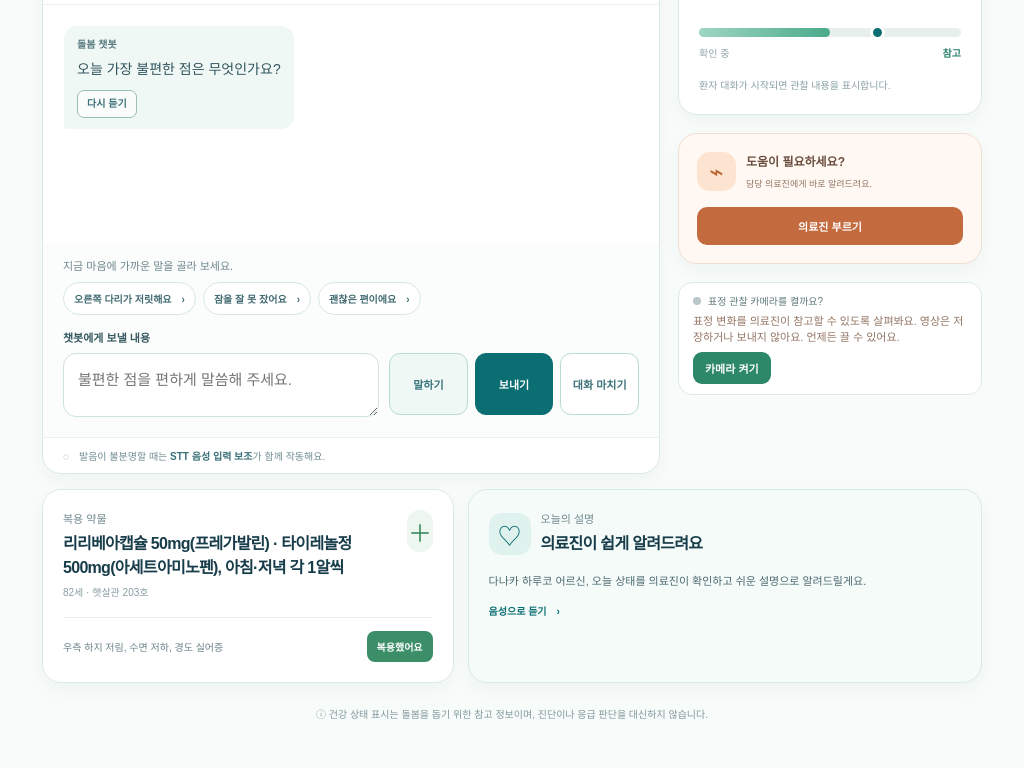
Test: PatientChat › puts recognized speech into the message field before sending
(page scrolled)
What coordinates should you click on to do the following:
click the button "말하기"
I would click on:
 (428, 384)
Its box is x1=389 y1=353 x2=468 y2=415.
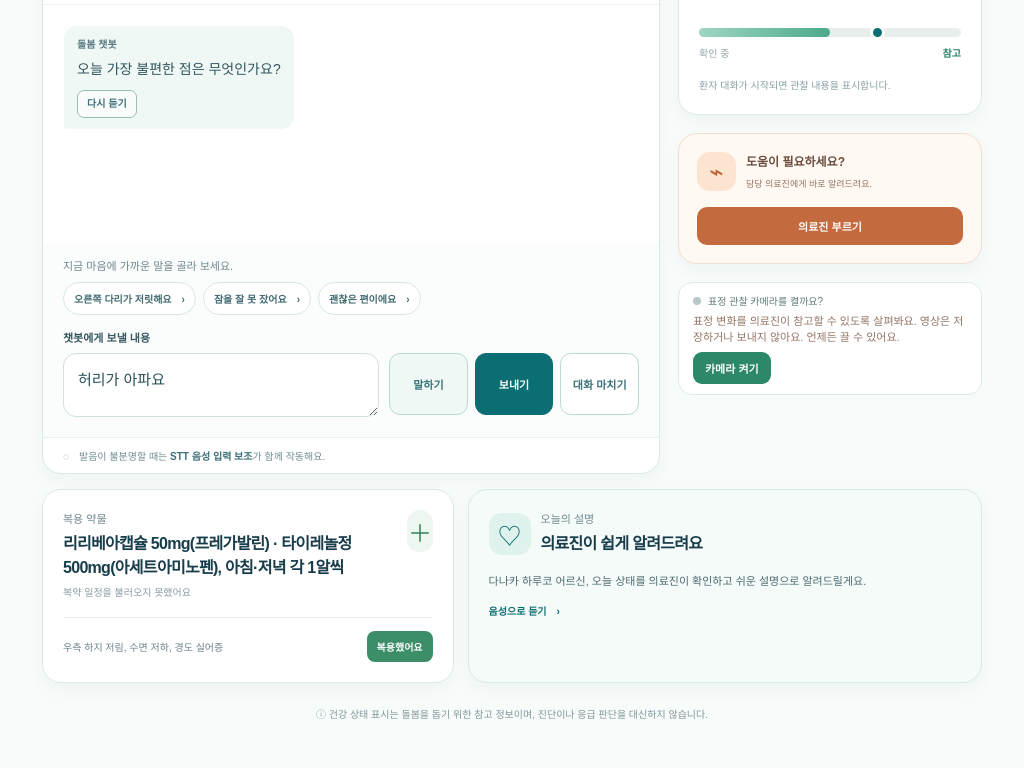
expect the text box labelled "챗봇에게 보낼 내용" holds "허리가 아파요": met, box x1=63 y1=353 x2=379 y2=417
